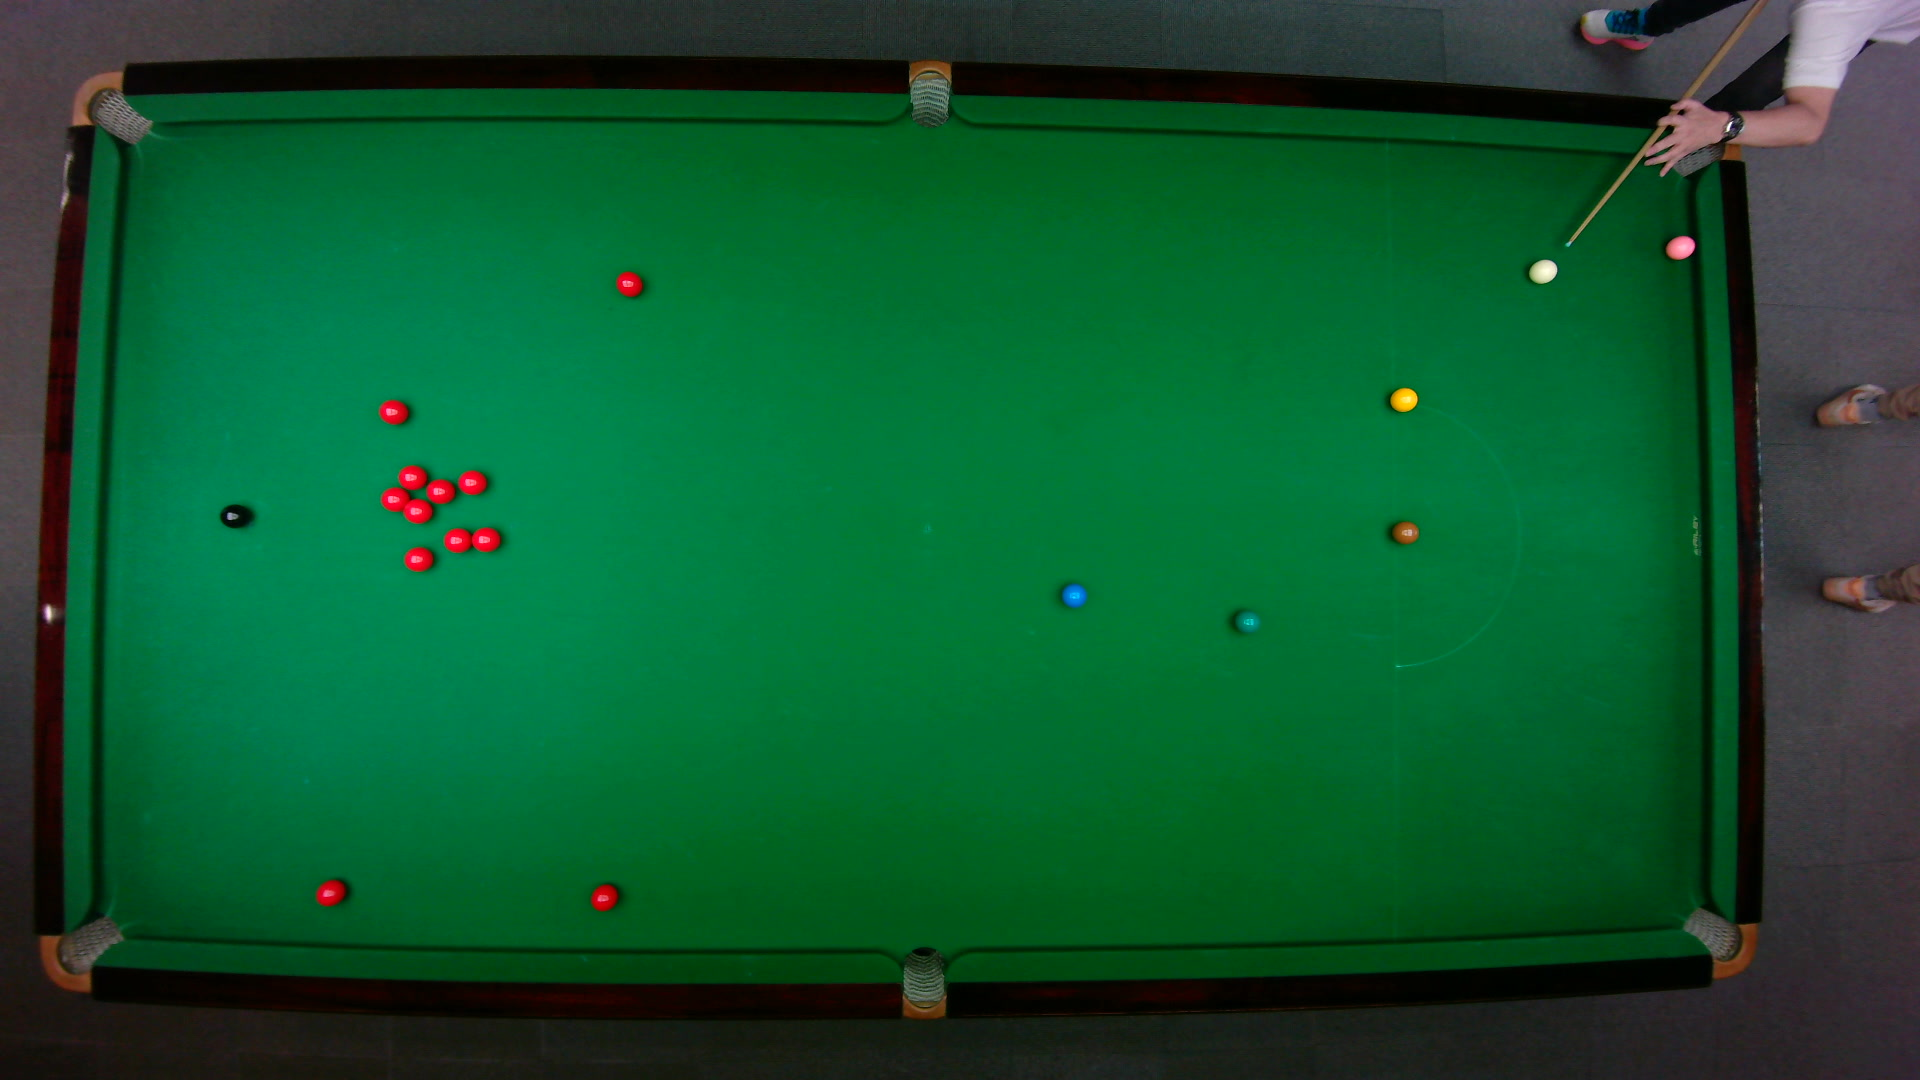bag: (38, 913, 125, 992), (69, 69, 152, 145), (1679, 905, 1756, 978), (901, 944, 944, 1021), (909, 58, 949, 128)
black: (218, 502, 251, 527)
blue: (1059, 582, 1088, 608)
brown: (1390, 520, 1419, 545)
cue: (1563, 0, 1771, 247)
green: (1232, 608, 1261, 634)
pink: (1663, 233, 1696, 260)
red: (314, 877, 347, 907), (442, 525, 473, 554), (396, 463, 429, 491), (400, 496, 433, 524), (402, 545, 434, 572), (469, 525, 501, 553), (378, 484, 410, 512), (422, 477, 456, 502), (589, 882, 618, 911), (456, 468, 488, 495), (615, 269, 644, 297), (377, 398, 407, 425)
white: (1526, 257, 1557, 284)
yellow: (1387, 385, 1418, 411)
zone: (1390, 401, 1520, 669)
